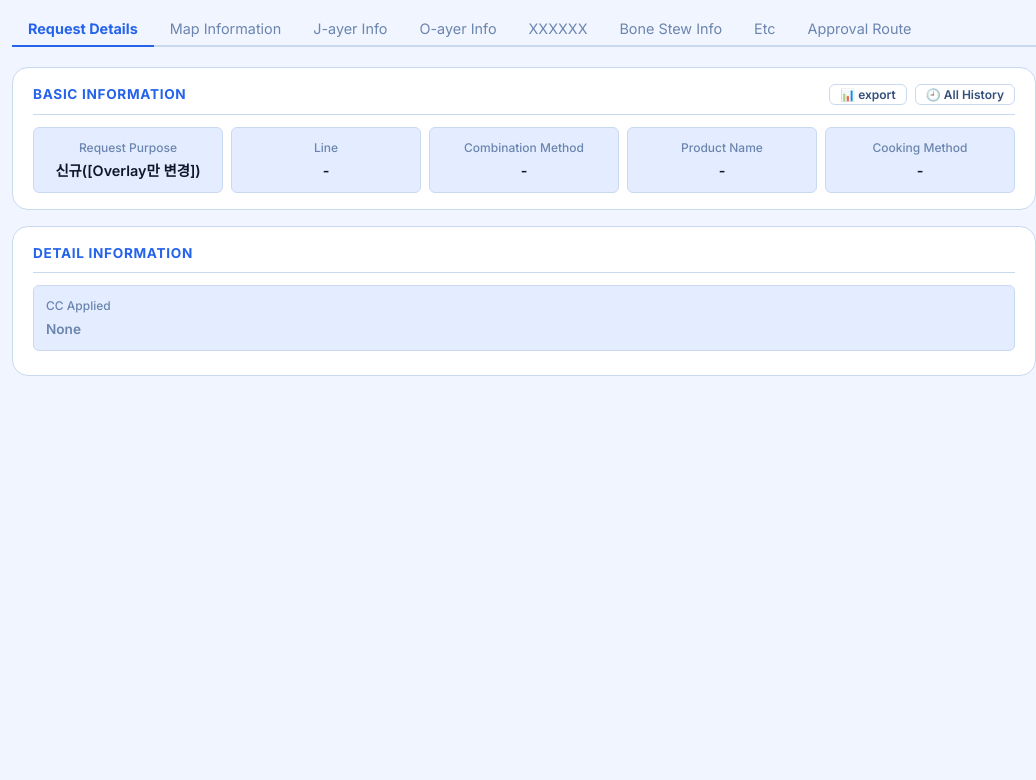
Scenario: 결재 경로 탭 — 'Overlay만 변경' 단독 문서의 R 행 › R 이 이미 생성된 진행 중 문서는 R 단계를 그대로 보여준다
What coordinates should you click on to do the following:
click the button "Approval Route"
I would click on:
 (859, 30)
Its box is left=792, top=12, right=927, bottom=47.
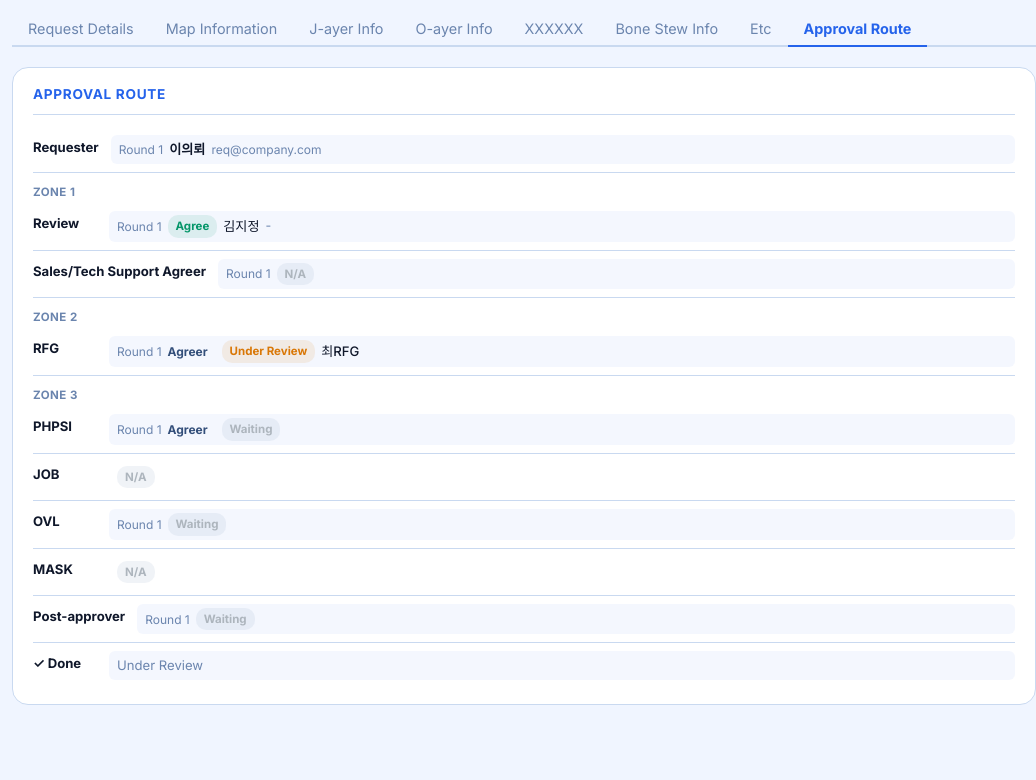
Expected: the text "최RFG" is shown, left=321, top=341, right=359, bottom=362
